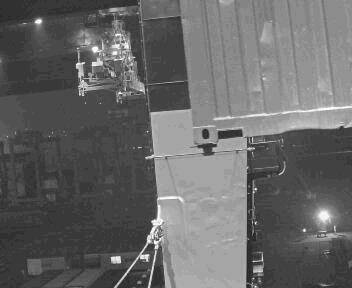twist_lock_1: (193, 141, 218, 163)
